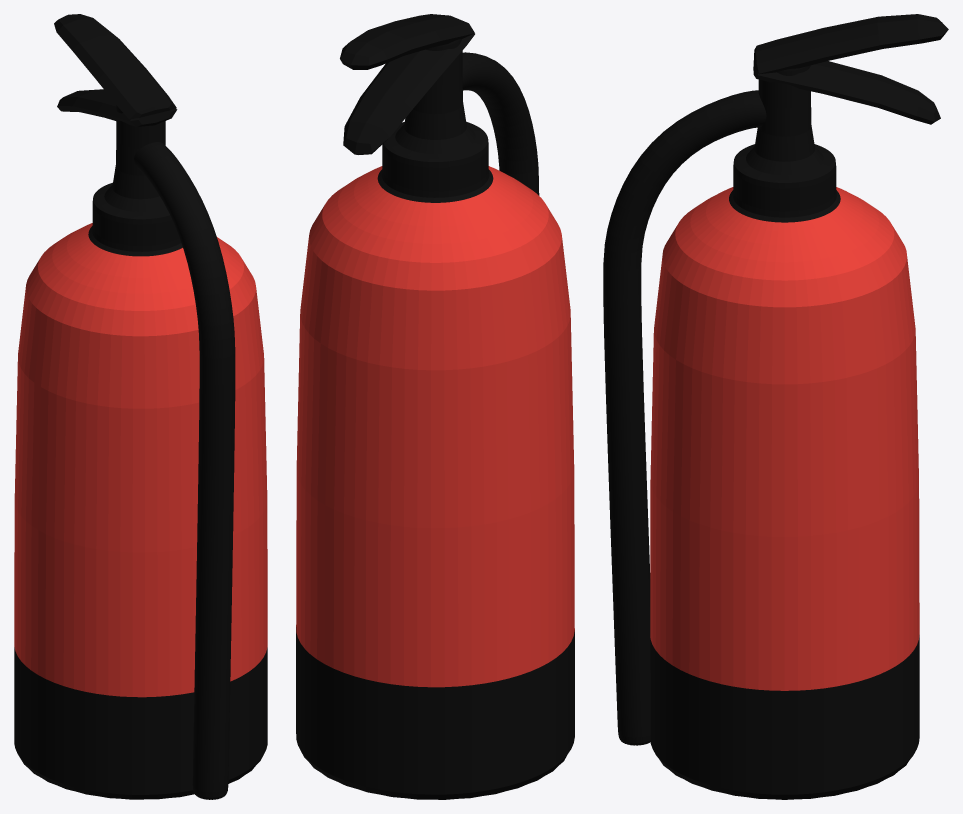
Rendered from fire_ex.fbx.
3 views of the same model, side by side, from view 1: azimuth 30°, elevation 25°; view 2: azimuth 150°, elevation 25°; view 3: azimuth 270°, elevation 25° (orthographic). The views are drawn at different scales.
Parts seen in each view (by area): view 1: Cylinder, Cylinder.001, Cube.001, Cube; view 2: Cylinder, Cube, Cylinder.001, Cube.001; view 3: Cylinder, Cylinder.001, Cube.001, Cube.
Boxes of the visible parts, x1,y1,x2,y2 form: Cylinder: (14, 105, 267, 799); Cylinder.001: (134, 142, 235, 799); Cube.001: (54, 14, 176, 119); Cube: (57, 89, 177, 126); Cylinder: (296, 39, 574, 799); Cube: (343, 33, 474, 154); Cylinder.001: (462, 52, 539, 195); Cube.001: (340, 14, 474, 69); Cylinder: (650, 65, 919, 799); Cylinder.001: (603, 90, 766, 745); Cube.001: (754, 14, 948, 74); Cube: (753, 60, 940, 124).
Bounding box in the file's own units: 199 × 591 × 255.
